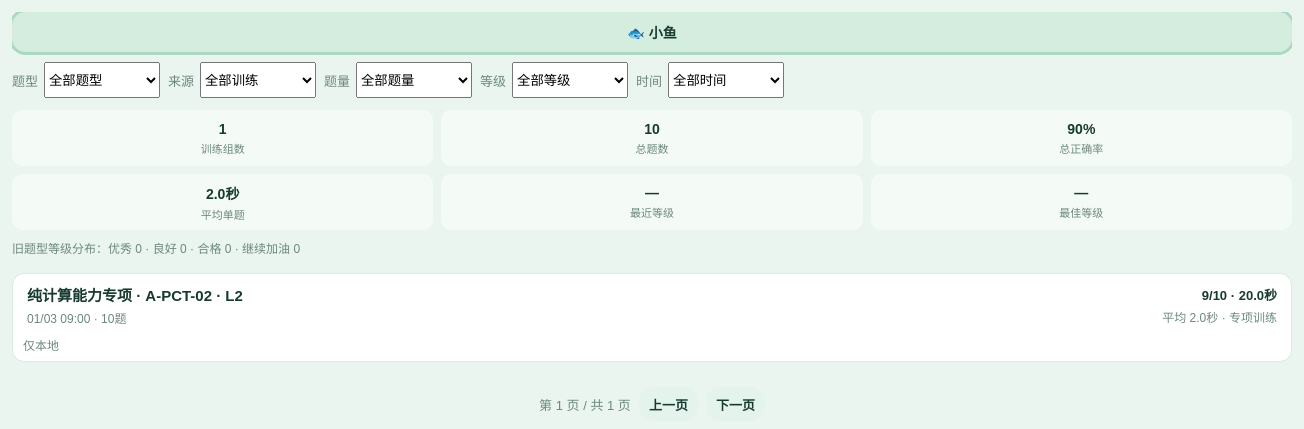
HistoryList › labels skill drills explicitly instead of showing a blank legacy rating
The width and height of the screenshot is (1304, 429).
Expected: the element with class "historySessionMetrics" shows "专项训练", [1229, 311, 1277, 325]
Select "纯计算能力专项" in the dropdown named "筛选题型" at (102, 80), box [44, 62, 160, 98]
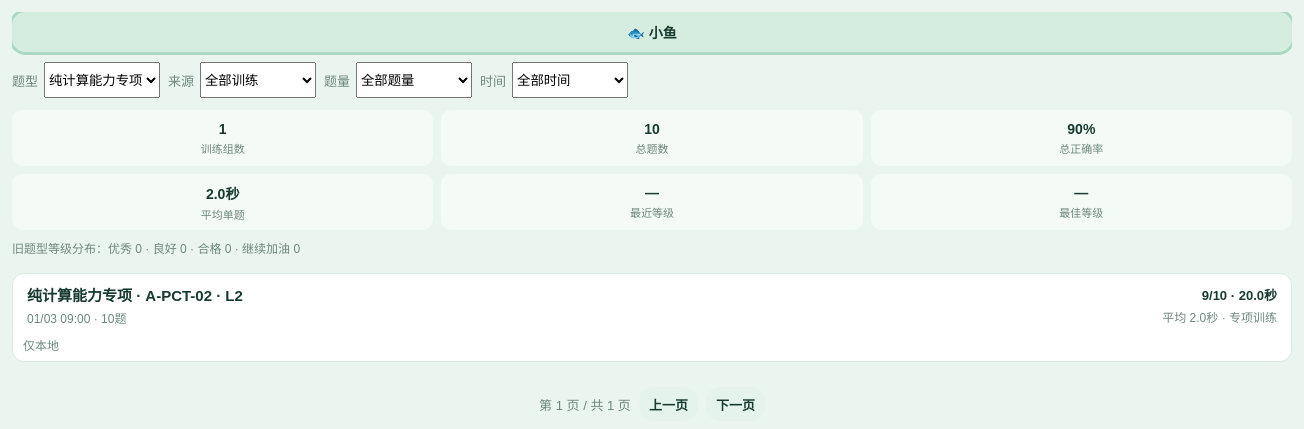
Expected: the dropdown labelled "筛选等级" is gone
